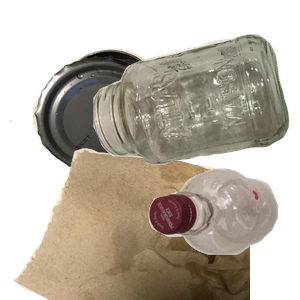glass: (91, 32, 300, 189)
metal: (30, 46, 205, 215)
plastic: (146, 166, 300, 300)
trash: (10, 120, 250, 300)
